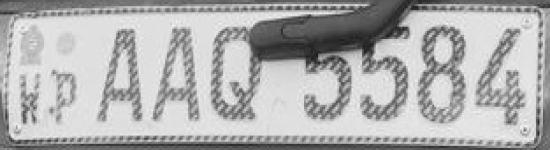4: (473, 17, 531, 135)
5: (299, 12, 356, 126), (358, 13, 414, 126)
8: (417, 22, 472, 135)
A: (149, 22, 204, 130), (93, 22, 146, 128)
P: (49, 68, 83, 126)
Q: (208, 19, 264, 128)
W: (13, 69, 47, 125)
